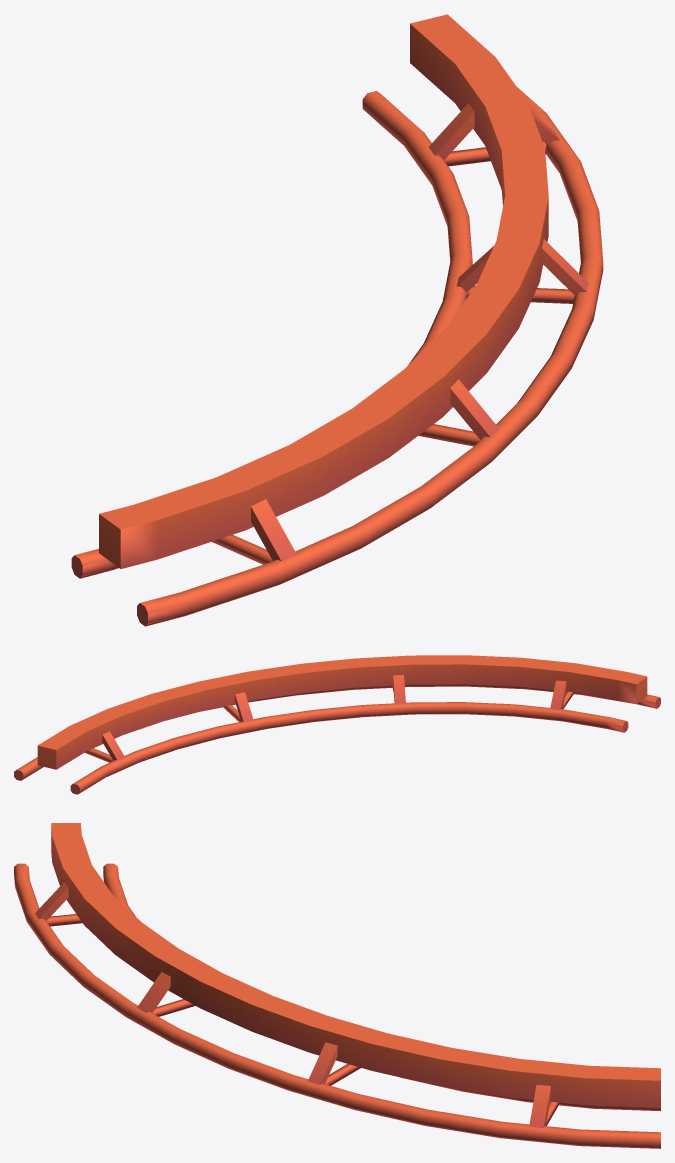
Rendered from coaster-hanging-corner-large.glb.
The picture shows the model from 3 angles, top to bottom: view 1: azimuth 30°, elevation 25°; view 2: azimuth 150°, elevation 25°; view 3: azimuth 270°, elevation 25°; orthographic projection. The views are drawn at different scales.
Parts seen in each view (by area): view 1: coaster-hanging-corner-large; view 2: coaster-hanging-corner-large; view 3: coaster-hanging-corner-large.
Part boxes in pixels (box(x1,y1,x2,y2)): coaster-hanging-corner-large: box(71, 14, 603, 626); coaster-hanging-corner-large: box(14, 655, 660, 794); coaster-hanging-corner-large: box(14, 823, 660, 1148).
Size of the model in its own units: 13.05 by 1.2 by 13.05.
Materials: 1 (1 with a texture image).
